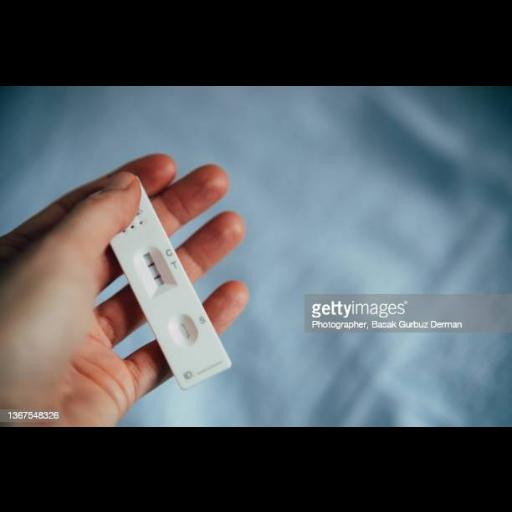Pos: (87, 173, 234, 391)
